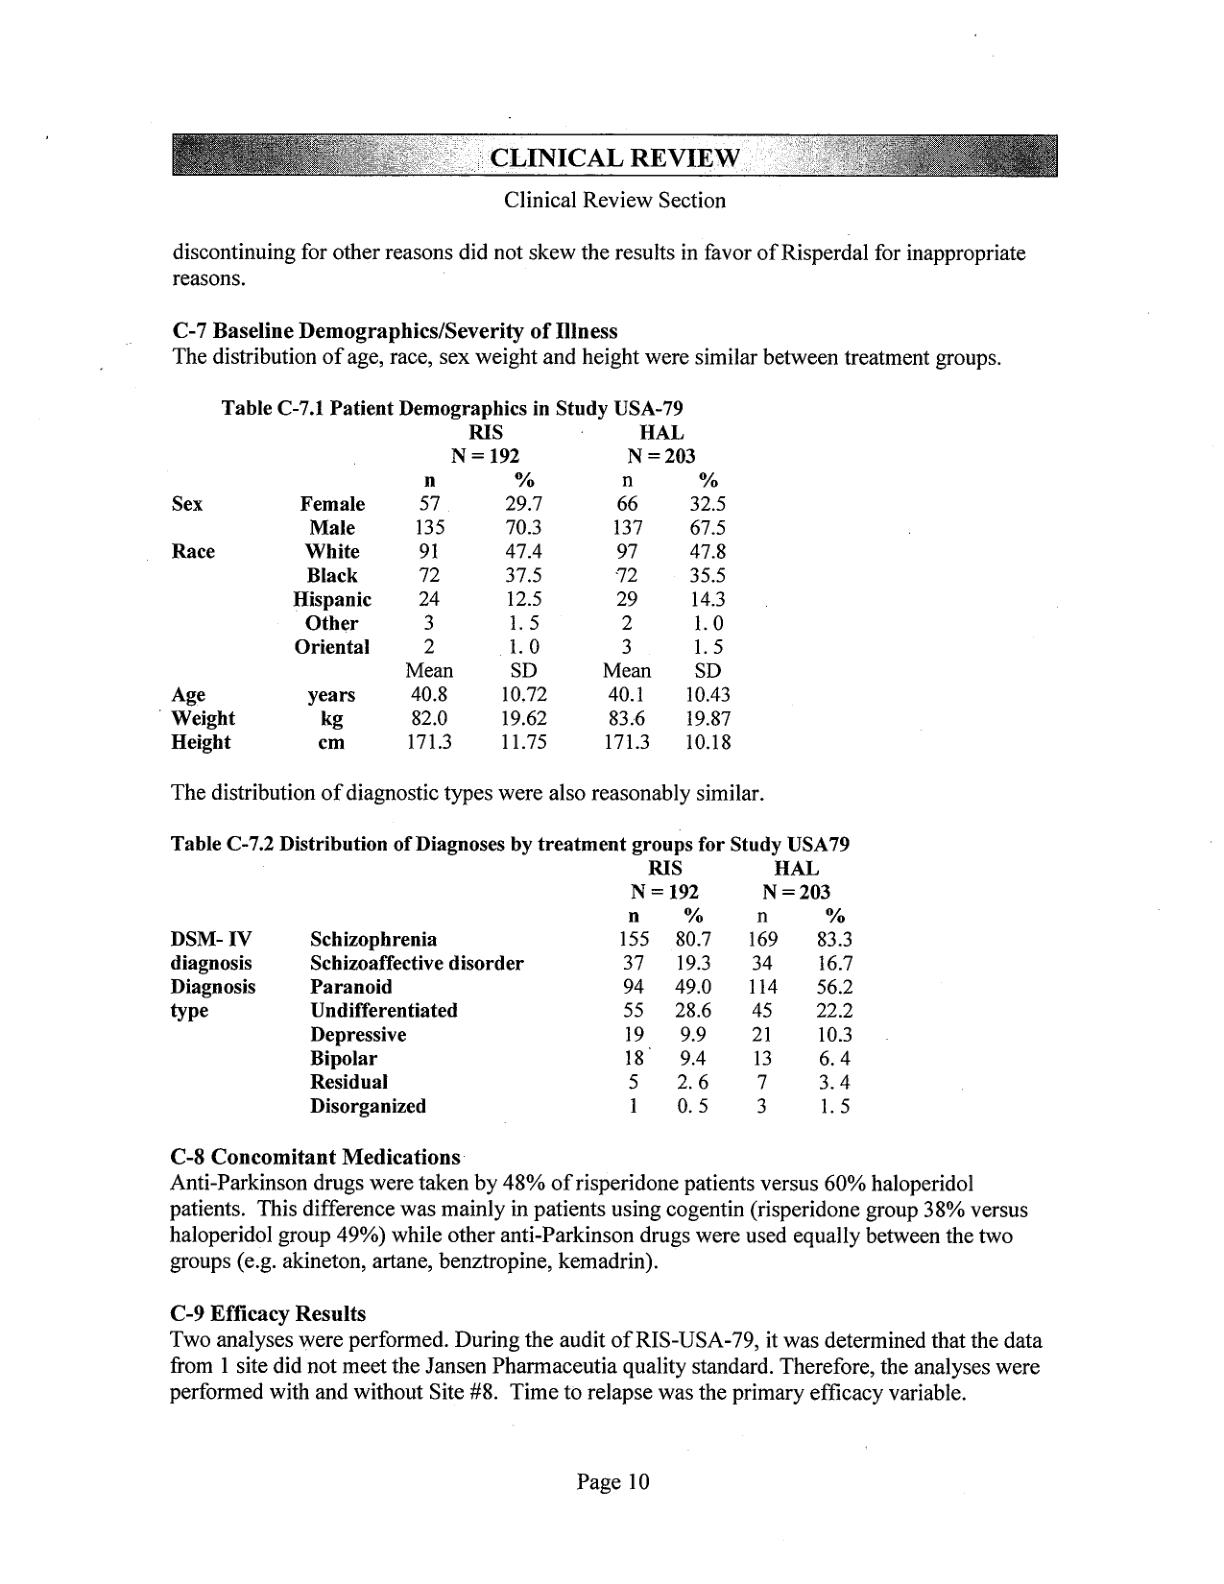nolines: (168, 423, 734, 757), (168, 860, 854, 1119)
